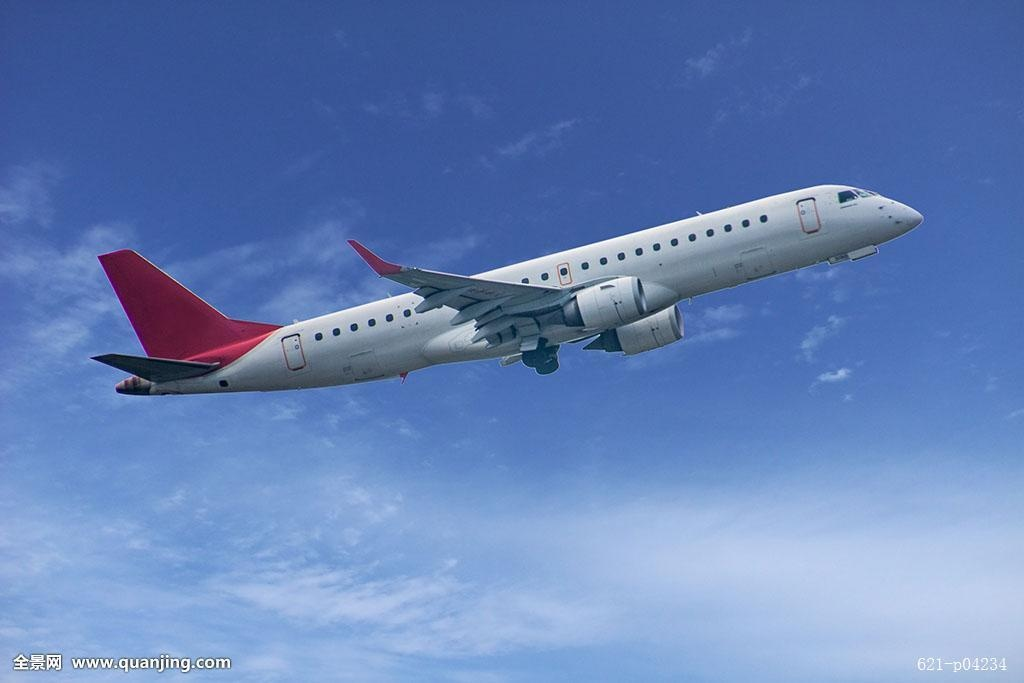airplane: (87, 168, 927, 418)
